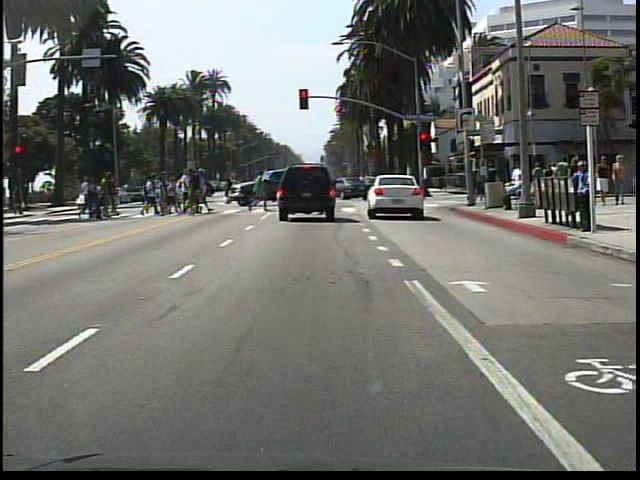person: (571, 156, 591, 235), (611, 152, 628, 211), (592, 154, 612, 204)
